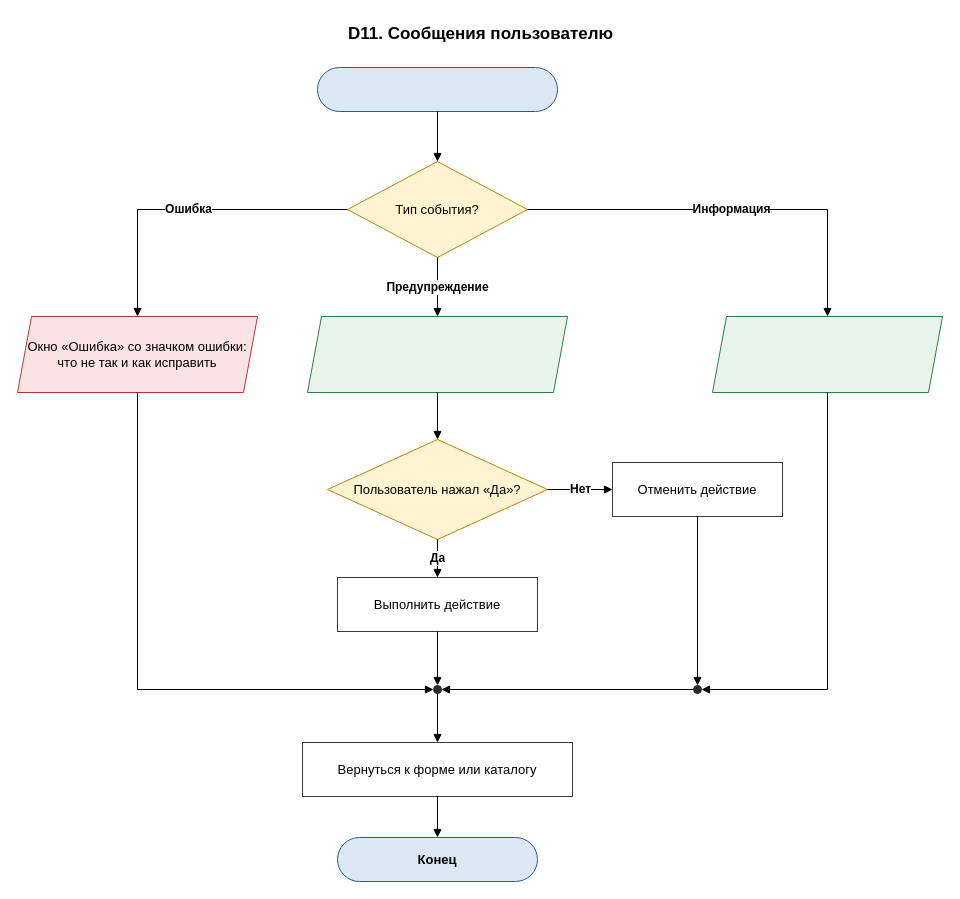
Some shapes in this 960 by 899 pixel diagram are drawn without their labels. The shapes that lost their labels are listed below. From the top down, each one's centre as x and y in pixels, then its label:
At [437,89]: "Начало: произошло событие".
At [437,354]: "Окно «Предупреждение» со значком «!»: последствия, кнопки «Да» и «Нет»".
At [827,354]: "Окно «Информация» со значком «i»: результат действия".
